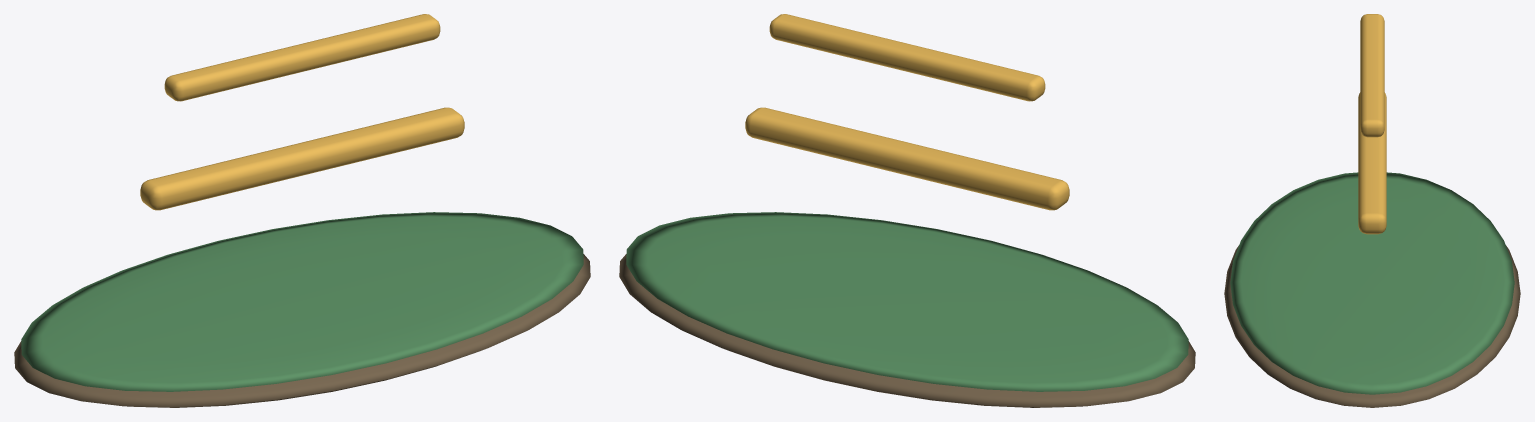
The model's file is two.glb.
3 renders of one model, left to right at view 1: azimuth 30°, elevation 25°; view 2: azimuth 150°, elevation 25°; view 3: azimuth 270°, elevation 25°, orthographic. The views are drawn at different scales.
Parts seen in each view (by area): view 1: two_surface_01, two_surface_02, two_surface_00; view 2: two_surface_01, two_surface_02, two_surface_00; view 3: two_surface_01, two_surface_02, two_surface_00.
Part boxes in pixels (x1=…): two_surface_01: x1=21, y1=212, x2=583, y2=391; two_surface_02: x1=140, y1=14, x2=464, y2=210; two_surface_00: x1=14, y1=254, x2=590, y2=407; two_surface_01: x1=626, y1=212, x2=1188, y2=391; two_surface_02: x1=745, y1=14, x2=1069, y2=210; two_surface_00: x1=619, y1=254, x2=1195, y2=407; two_surface_01: x1=1230, y1=172, x2=1514, y2=394; two_surface_02: x1=1358, y1=14, x2=1386, y2=234; two_surface_00: x1=1224, y1=245, x2=1520, y2=407.
Bounding box in the file's own units: 4.56 × 2.24 × 2.5.
